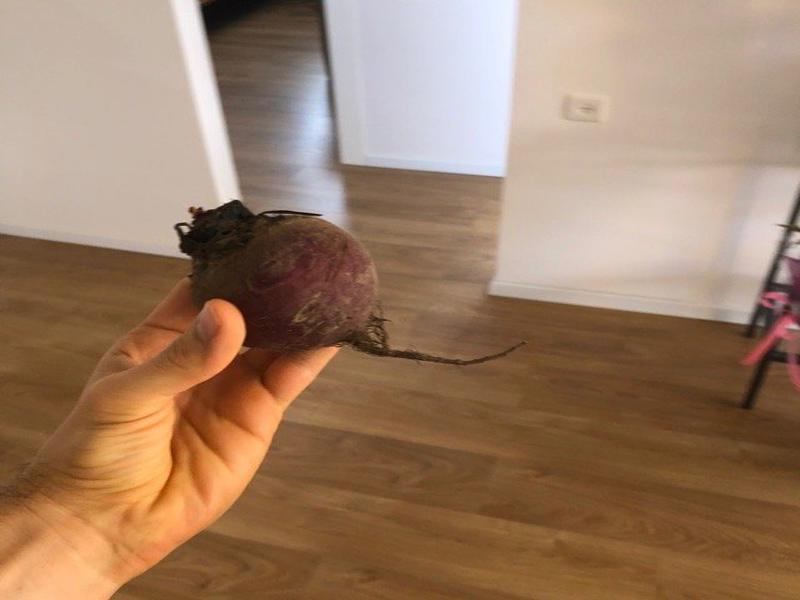Beet: (179, 202, 528, 364)
